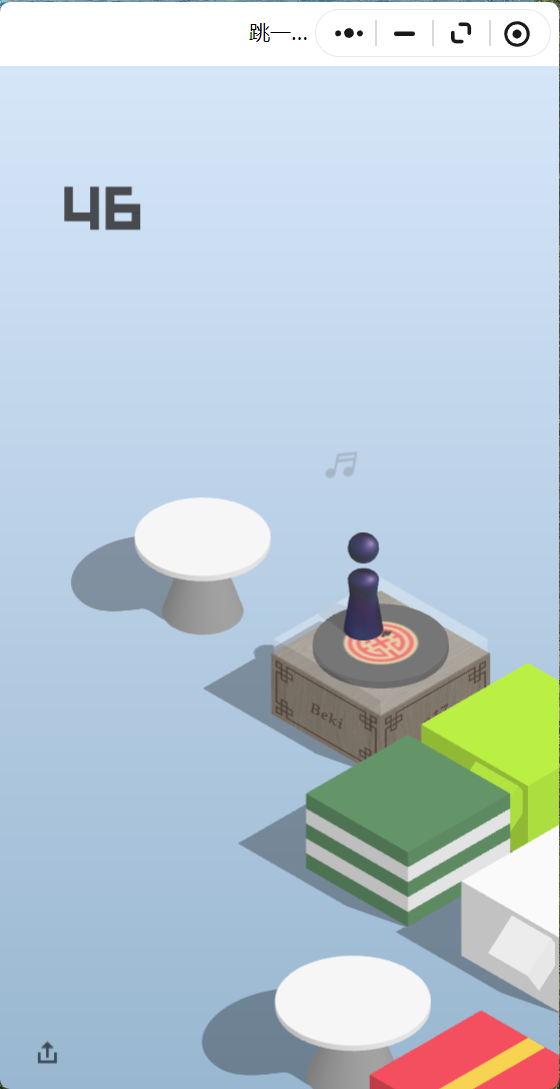piece: (348, 532, 379, 636)
target: (135, 496, 271, 576)
